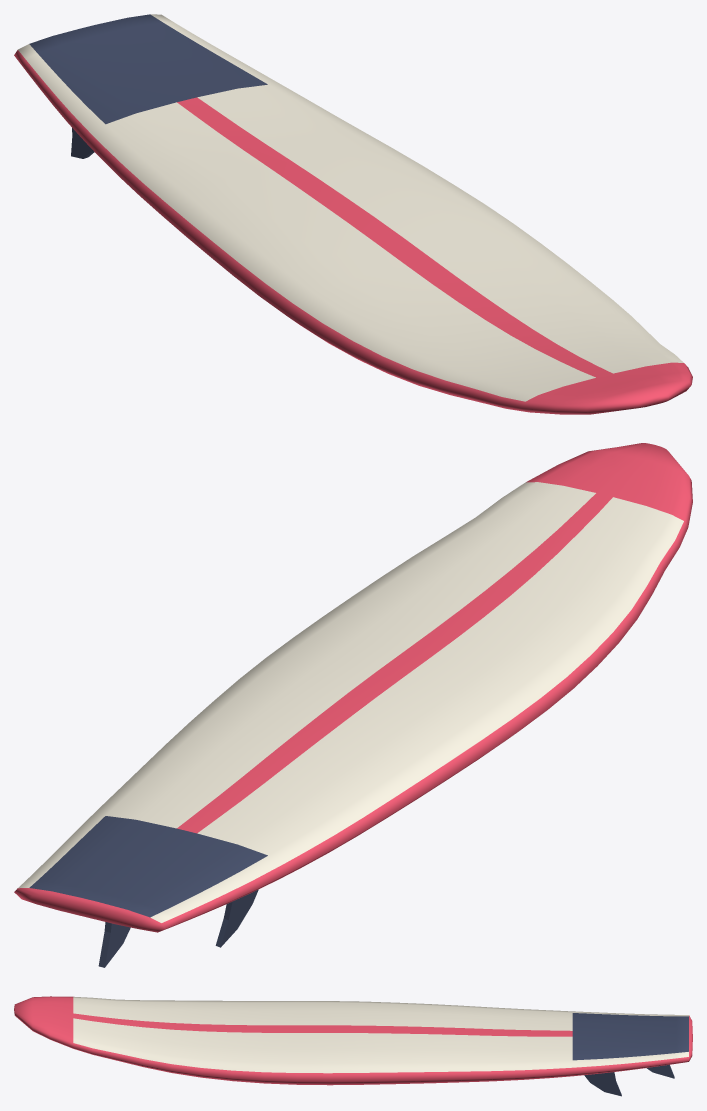
Rendered from Surfboard.fbx.
3 renders of one model, top to bottom at view 1: azimuth 30°, elevation 25°; view 2: azimuth 150°, elevation 25°; view 3: azimuth 270°, elevation 25°, orthographic. The views are drawn at different scales.
Visible parts, largest first — view 1: Surfboard; view 2: Surfboard; view 3: Surfboard.
Part boxes in pixels (left/top/right/bottom): Surfboard: left=14, top=14, right=692, bottom=414; Surfboard: left=14, top=443, right=692, bottom=967; Surfboard: left=14, top=996, right=692, bottom=1096.
Size of the model in its own units: 0.4995 by 0.2167 by 1.89.
